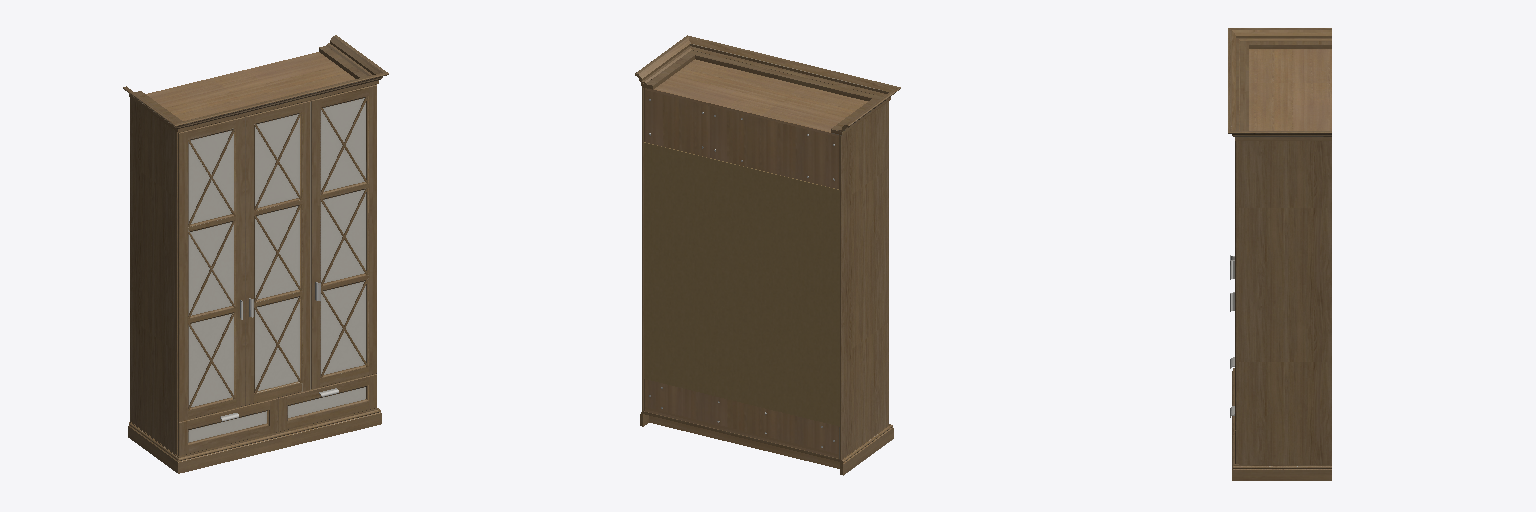
3 renders of one model, left to right at view 1: azimuth 30°, elevation 25°; view 2: azimuth 150°, elevation 25°; view 3: azimuth 270°, elevation 25°, orthographic.
Visible parts, largest first — view 1: solid_001, solid_002, solid_005; view 2: solid_004, solid_005, solid_001; view 3: solid_001, solid_005.
Part boxes in pixels (x1,y1,x2,y2): solid_001: (123,35,388,473); solid_002: (189,98,365,441); solid_005: (146,52,354,120); solid_004: (644,142,839,426); solid_005: (645,59,867,468); solid_001: (635,35,900,475); solid_001: (1228,28,1331,480); solid_005: (1249,49,1331,130).
Bounding box in the file's own units: 1.45 × 2.28 × 0.6157.
Materials: 1 (1 with a texture image).